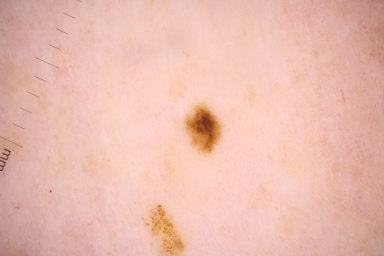melanoma: (146, 201, 185, 255), (189, 106, 220, 149)
